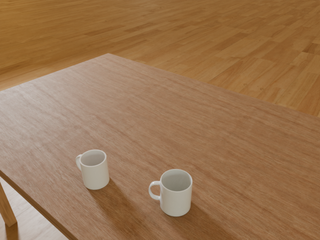cup: (149, 169, 192, 216), (76, 150, 109, 189)
